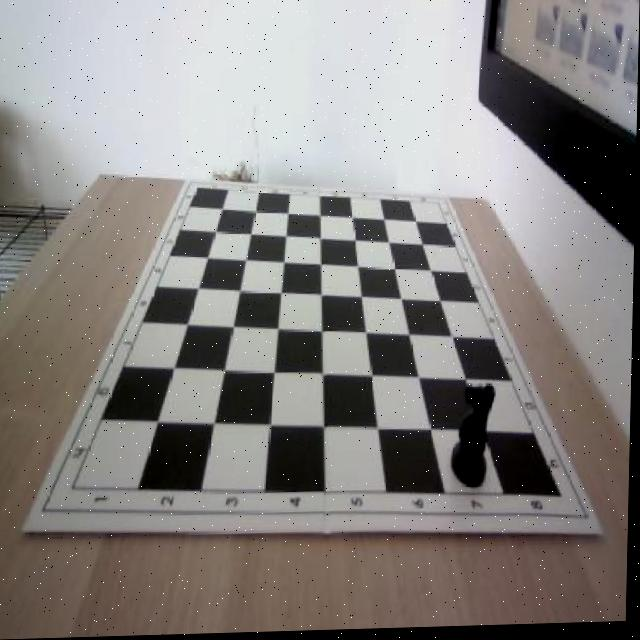black-king: (451, 385, 500, 493)
